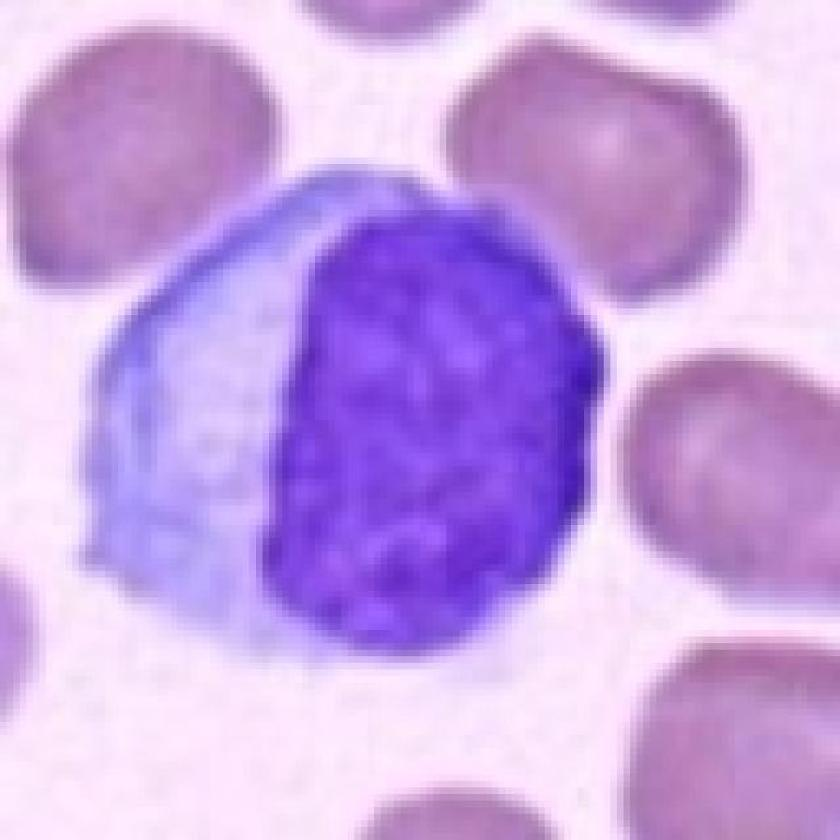lymphocyte: (77, 152, 617, 678)
